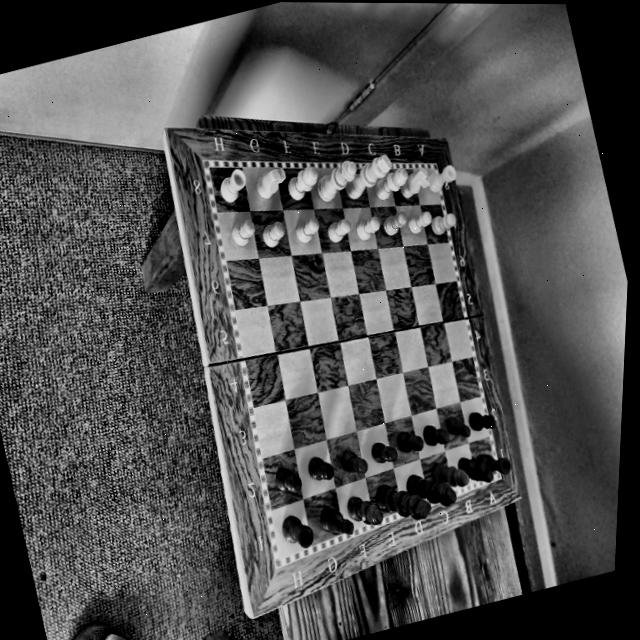black-bishop: (339, 486, 387, 538), (426, 452, 473, 497)
black-king: (368, 470, 436, 532)
black-knight: (450, 445, 497, 492), (313, 498, 357, 546)
black-pawn: (266, 458, 306, 501), (299, 447, 339, 489), (334, 443, 370, 481), (364, 435, 401, 471), (390, 425, 426, 458), (417, 419, 452, 452), (464, 403, 497, 436), (441, 410, 473, 443)
black-queen: (400, 462, 460, 517)
black-rook: (273, 507, 318, 557), (473, 445, 514, 483)
white-bishop: (278, 160, 324, 206), (365, 161, 414, 202)
white-king: (335, 149, 399, 204)
white-knight: (392, 161, 436, 204), (248, 161, 291, 202)
white-pawn: (253, 213, 292, 254), (221, 213, 260, 252), (423, 204, 464, 241), (287, 208, 325, 247), (320, 210, 355, 249), (376, 206, 410, 241), (350, 210, 384, 243), (405, 204, 436, 235)
white-queen: (307, 151, 365, 207)
white-rook: (209, 163, 253, 208), (419, 159, 462, 197)
